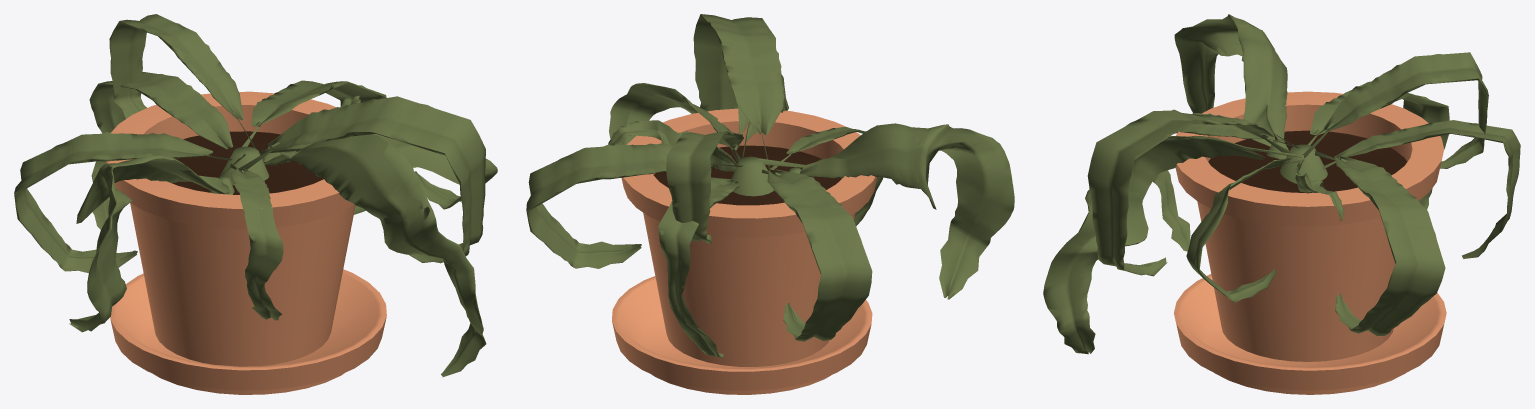
File: plant dead.fbx
3 renders of one model, left to right at view 1: azimuth 30°, elevation 25°; view 2: azimuth 150°, elevation 25°; view 3: azimuth 270°, elevation 25°, orthographic. The views are drawn at different scales.
Parts seen in each view (by area): view 1: dead plant; view 2: dead plant; view 3: dead plant.
Boxes of the visible parts, <box> form: dead plant: <box>14,14,497,394</box>; dead plant: <box>526,14,1014,394</box>; dead plant: <box>1043,14,1520,394</box>.
Bounding box in the file's own units: 63.26 × 40.16 × 63.49.
